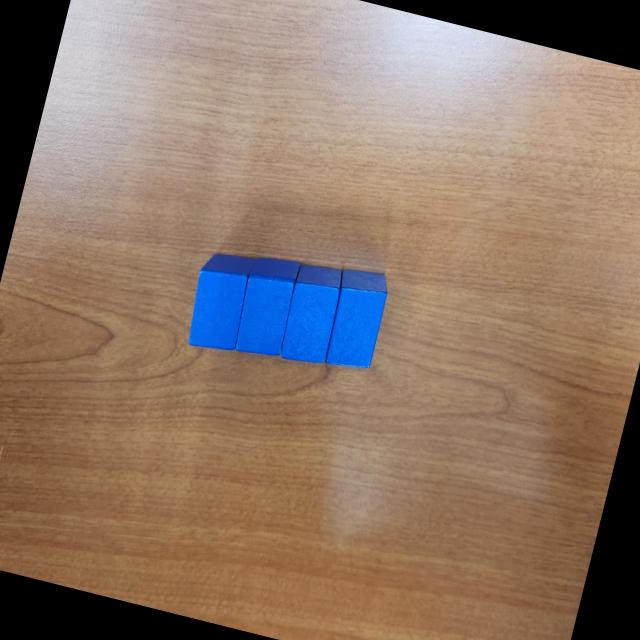blue: (318, 262, 393, 374), (182, 246, 258, 356), (230, 250, 304, 362), (275, 258, 348, 369)
